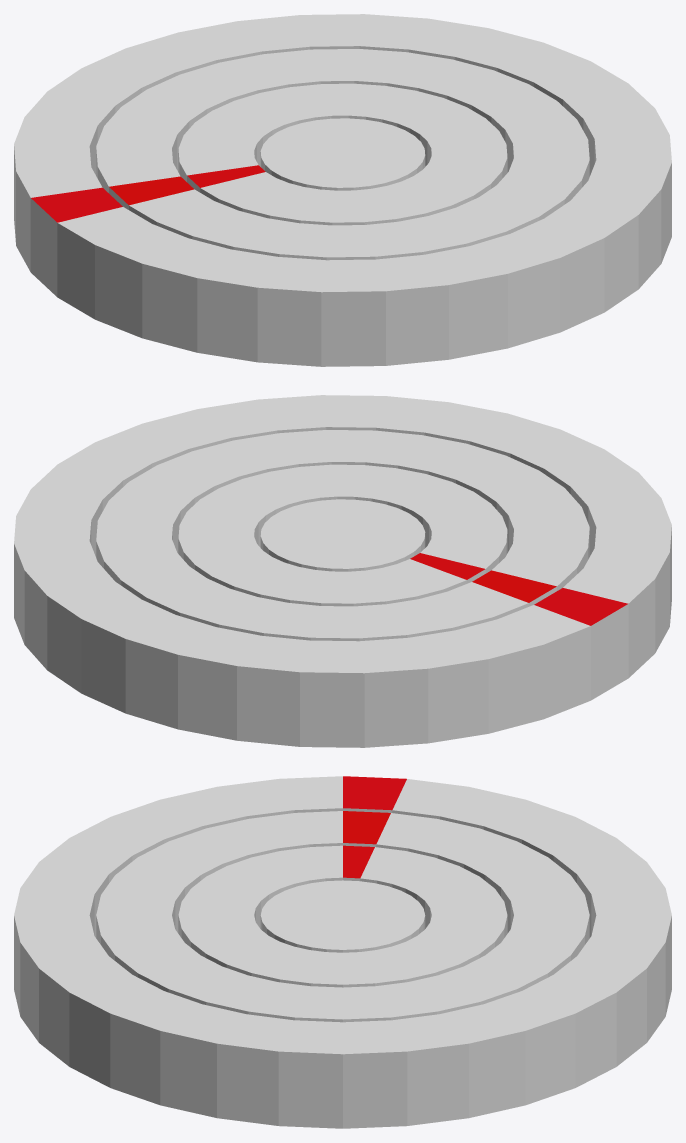
The model's file is ccd_hour.glb.
3 renders of one model, top to bottom at view 1: azimuth 30°, elevation 25°; view 2: azimuth 150°, elevation 25°; view 3: azimuth 270°, elevation 25°, orthographic.
Parts seen in each view (by area): view 1: circle_year.003, circle_hour_in, circle_minute_in, circle_second; view 2: circle_year.003, circle_hour_in, circle_minute_in, circle_second; view 3: circle_year.003, circle_hour_in, circle_minute_in, circle_second.
Boxes of the visible parts, x1,y1,x2,y2 form: circle_year.003: (14, 14, 671, 366); circle_hour_in: (96, 49, 589, 260); circle_minute_in: (178, 83, 507, 225); circle_second: (260, 118, 425, 190); circle_year.003: (14, 395, 671, 747); circle_hour_in: (96, 430, 589, 641); circle_minute_in: (178, 464, 507, 606); circle_second: (260, 499, 425, 571); circle_year.003: (14, 776, 671, 1128); circle_hour_in: (96, 811, 589, 1022); circle_minute_in: (178, 845, 507, 987); circle_second: (260, 880, 425, 952).
Bounding box in the file's own units: 2 × 0.25 × 2.
